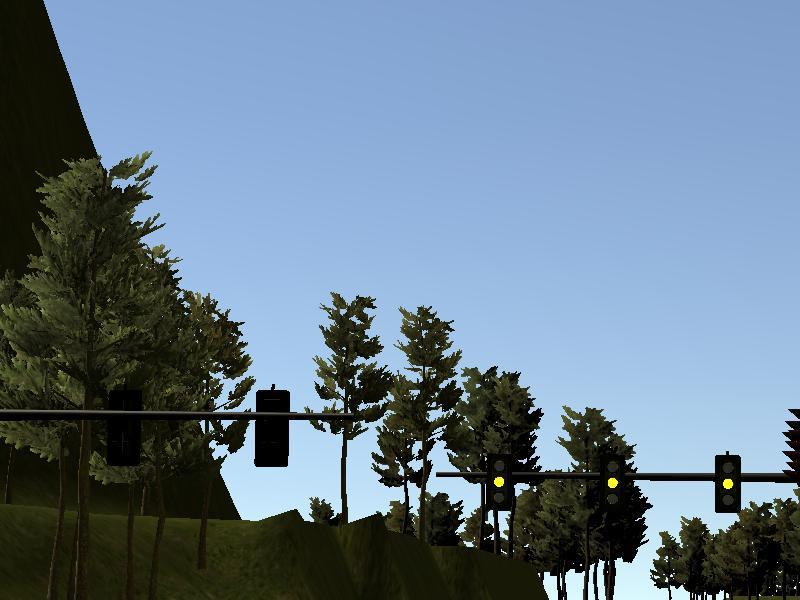Yellow: (598, 455, 626, 514), (715, 455, 740, 512), (487, 456, 513, 509)
